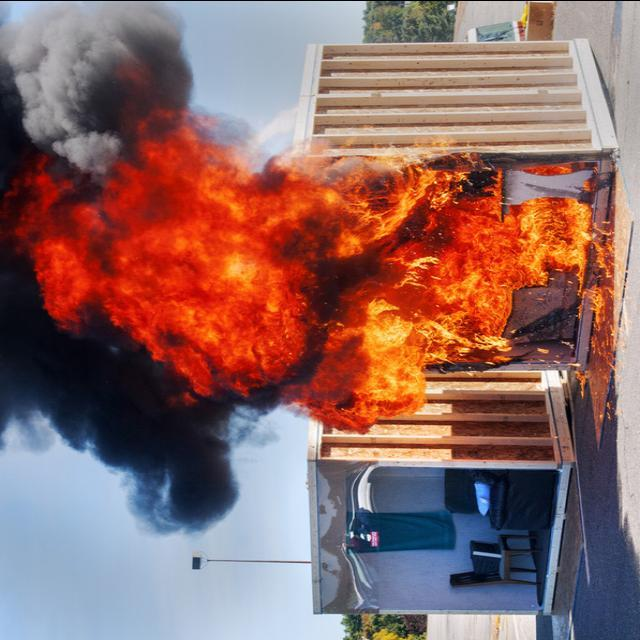Fire: (26, 138, 602, 428)
